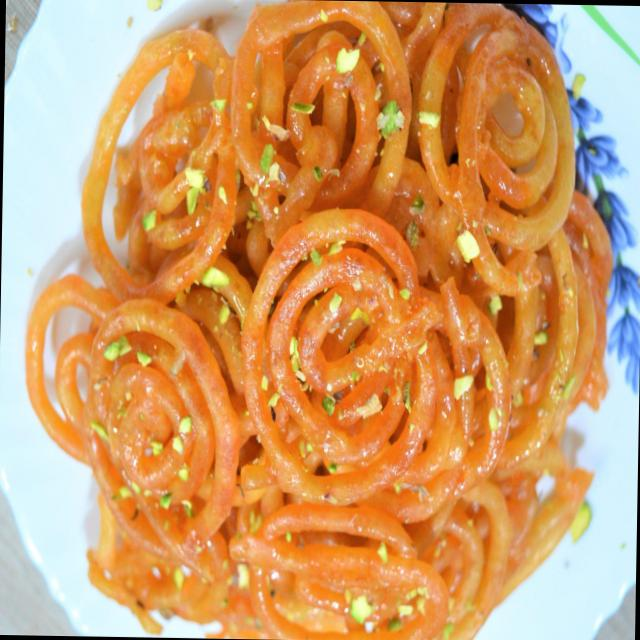jalebi: (29, 0, 606, 640)
